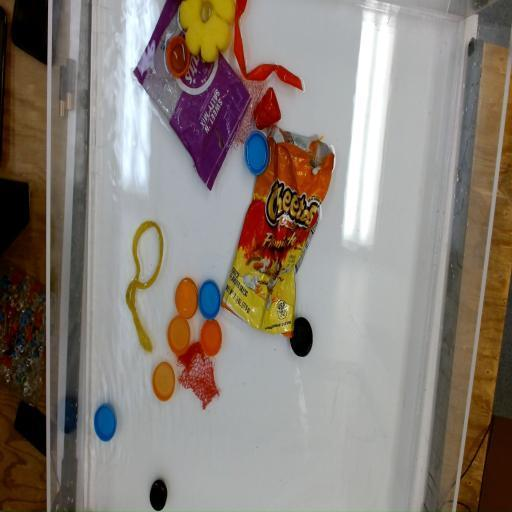Bottle Cap: (244, 131, 270, 174), (290, 313, 314, 356), (152, 359, 176, 401), (174, 276, 198, 318), (167, 36, 190, 76), (94, 401, 117, 441), (198, 278, 221, 318), (168, 318, 192, 356), (200, 318, 222, 358), (149, 478, 168, 510)
Cone Cap: (254, 88, 282, 132)
Netting: (218, 79, 277, 147), (179, 346, 220, 410)
Plastic Bag: (219, 121, 337, 338), (133, 0, 252, 194)
Plastic Strand: (232, 0, 306, 93), (126, 218, 164, 355)
Sponge: (178, 0, 236, 65)
